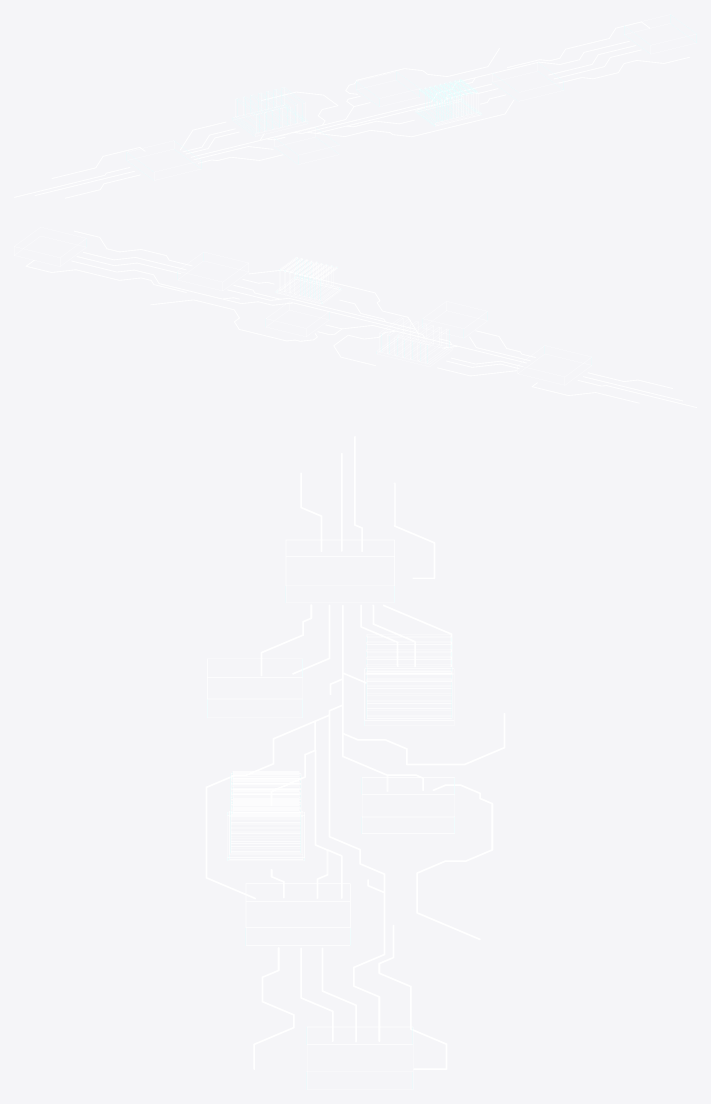
Rendered from circuits-traced-outline.glb.
3 renders of one model, top to bottom at view 1: azimuth 30°, elevation 25°; view 2: azimuth 150°, elevation 25°; view 3: azimuth 270°, elevation 25°, orthographic. The views are drawn at different scales.
Parts seen in each view (by area): view 1: outline_parts, outline_traces; view 2: outline_parts, outline_traces; view 3: outline_parts, outline_traces.
Boxes of the visible parts, <box> form: outline_parts: <box>126,14,696,180</box>; outline_traces: <box>14,21,689,198</box>; outline_parts: <box>14,227,591,385</box>; outline_traces: <box>25,230,696,407</box>; outline_parts: <box>207,539,454,1089</box>; outline_traces: <box>205,436,505,1069</box>.
Bounding box in the file's own units: 53.7 × 1.82 × 10.43.
